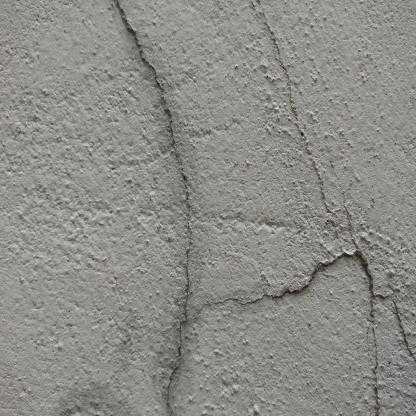crack: (112, 1, 414, 411), (256, 4, 339, 217)
